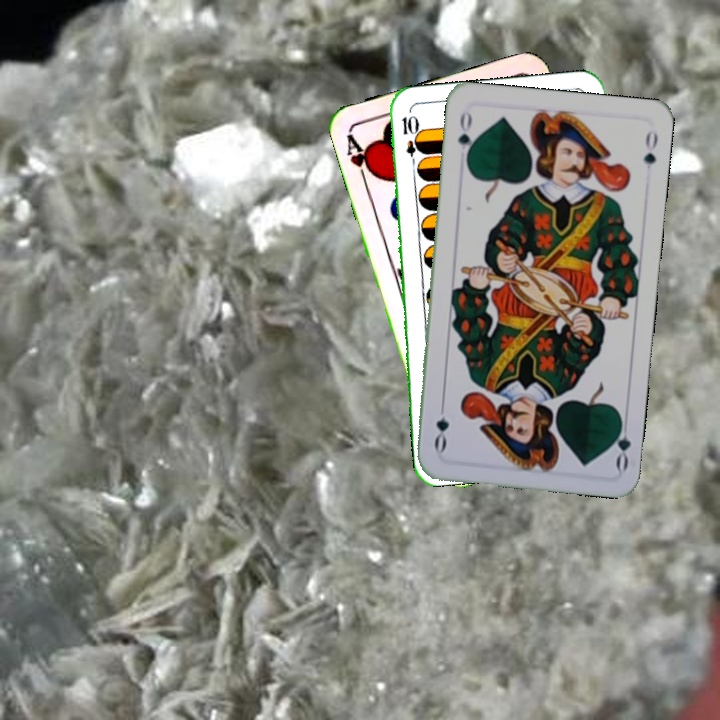E10: (398, 111, 421, 170)
GO: (607, 413, 634, 472), (453, 107, 477, 166)
HA: (342, 130, 379, 187)
